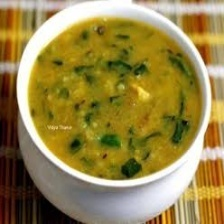dal: (29, 15, 205, 181)
